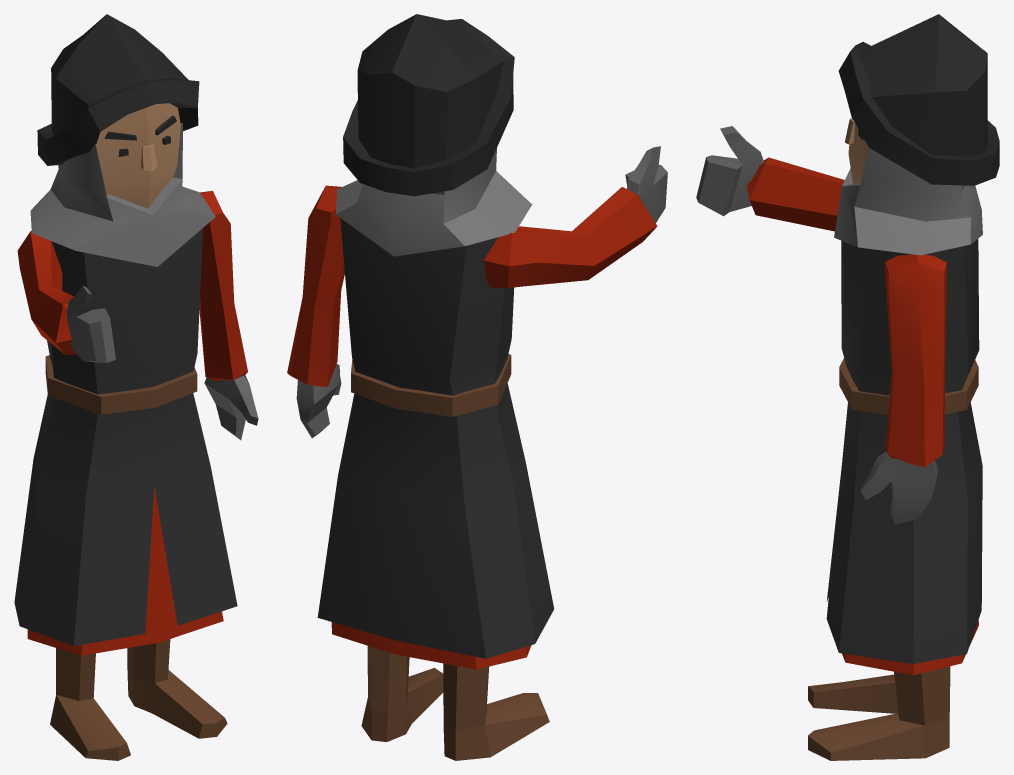
File: Guard_1.fbx
The picture shows the model from 3 angles, left to right: view 1: azimuth 30°, elevation 25°; view 2: azimuth 150°, elevation 25°; view 3: azimuth 270°, elevation 25°; orthographic projection. The views are drawn at different scales.
Parts seen in each view (by area): view 1: Guard_1; view 2: Guard_1; view 3: Guard_1.
Part boxes in pixels (x1,y1,x2,y2): Guard_1: (14,14,258,760); Guard_1: (287,14,667,760); Guard_1: (696,14,999,760).
Size of the model in its own units: 48.85 by 120 by 46.26.
